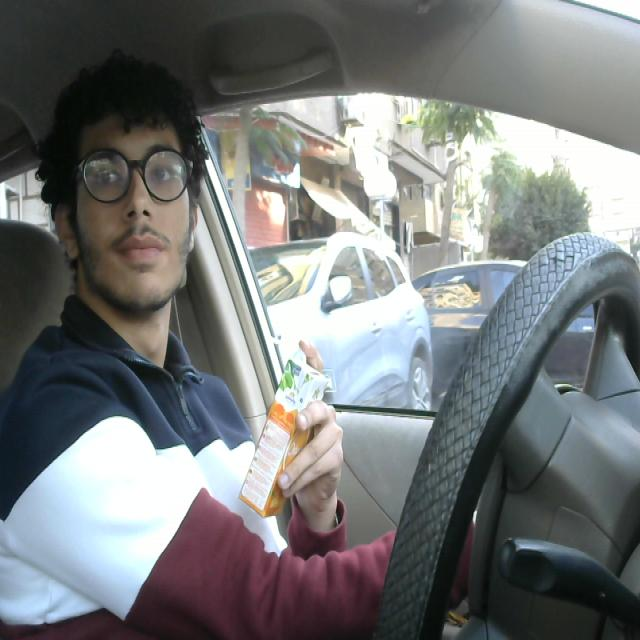drinking: (228, 324, 261, 450)
